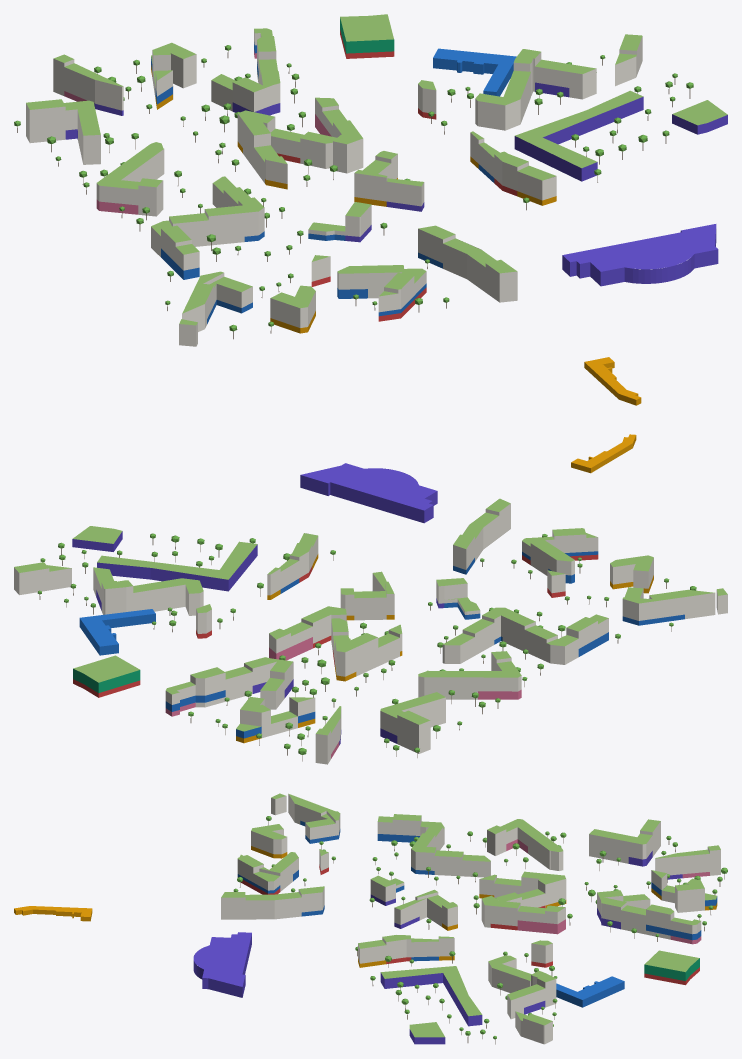
The picture shows the model from 3 angles, top to bottom: view 1: azimuth 30°, elevation 25°; view 2: azimuth 150°, elevation 25°; view 3: azimuth 270°, elevation 25°; orthographic projection. The views are drawn at different scales.
Visible parts, largest first — view 1: V6_P2_wohnen, V6_P3_bildung, V6_P3_wohnen, V6_P4_wohnen, V6_P1_wohnen, V6_P3_dach, V6_P2_dach, V6_P1_dach, V6_P4_dach, V6_P1_arbeiten, V6_P3_baeume, V6_P4_gastro (+5 smaller); view 2: V6_P2_wohnen, V6_P3_bildung, V6_P3_wohnen, V6_P1_wohnen, V6_P4_wohnen, V6_P3_dach, V6_P2_dach, V6_P1_dach, V6_P4_dach, V6_P1_arbeiten, V6_P3_baeume, V6_P4_gastro (+6 smaller); view 3: V6_P2_wohnen, V6_P1_wohnen, V6_P3_wohnen, V6_P4_wohnen, V6_P3_bildung, V6_P3_dach, V6_P2_dach, V6_P1_dach, V6_P4_dach, V6_P1_arbeiten, V6_P3_baeume, V6_P4_gastro (+7 smaller).
Boxes of the visible parts, <box> form: V6_P2_wohnen: <box>96,36,642,216</box>; V6_P3_bildung: <box>345,96,727,286</box>; V6_P3_wohnen: <box>151,132,556,270</box>; V6_P4_wohnen: <box>179,228,517,346</box>; V6_P1_wohnen: <box>26,30,280,164</box>; V6_P3_dach: <box>151,90,727,254</box>; V6_P2_dach: <box>97,34,642,189</box>; V6_P1_dach: <box>26,14,393,135</box>; V6_P4_dach: <box>179,225,517,325</box>; V6_P1_arbeiten: <box>151,42,516,104</box>; V6_P3_baeume: <box>119,73,693,281</box>; V6_P4_gastro: <box>270,311,641,405</box>; V6_P2_wohnen: <box>14,567,521,699</box>; V6_P3_bildung: <box>72,463,444,608</box>; V6_P3_wohnen: <box>267,533,608,664</box>; V6_P1_wohnen: <box>165,661,445,764</box>; V6_P4_wohnen: <box>453,503,727,620</box>; V6_P3_dach: <box>72,526,608,646</box>; V6_P2_dach: <box>14,562,521,677</box>; V6_P1_dach: <box>73,655,445,735</box>; V6_P4_dach: <box>453,498,727,603</box>; V6_P1_arbeiten: <box>79,609,315,738</box>; V6_P3_baeume: <box>40,533,620,686</box>; V6_P4_gastro: <box>571,434,653,593</box>; V6_P2_wohnen: <box>479,827,566,1044</box>; V6_P1_wohnen: <box>589,821,720,939</box>; V6_P3_wohnen: <box>358,816,490,963</box>; V6_P4_wohnen: <box>221,794,340,919</box>; V6_P3_bildung: <box>193,894,482,1044</box>; V6_P3_dach: <box>358,814,490,1037</box>; V6_P2_dach: <box>480,819,565,1025</box>; V6_P1_dach: <box>589,819,720,972</box>; V6_P4_dach: <box>221,793,340,900</box>; V6_P1_arbeiten: <box>556,882,717,1007</box>; V6_P3_baeume: <box>355,831,496,1044</box>; V6_P4_gastro: <box>14,846,287,921</box>.
Bounding box in the file's own units: 523 × 25.9 × 669.
